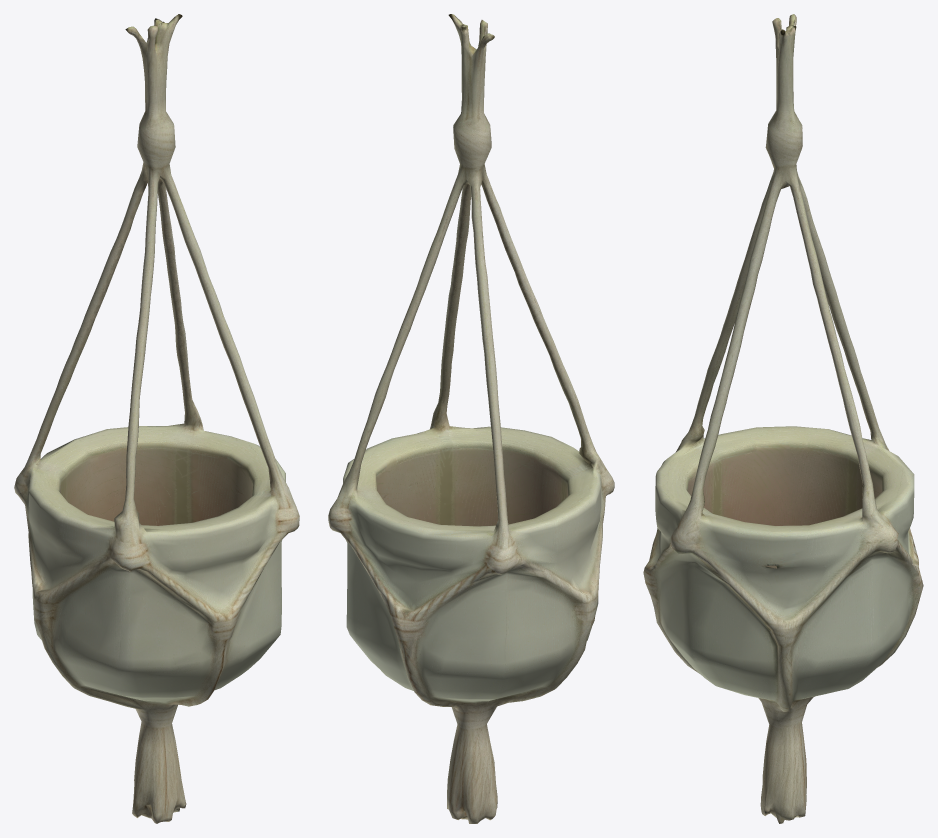
Rendered from pot_macrame.glb.
3 views of the same model, side by side, from view 1: azimuth 30°, elevation 25°; view 2: azimuth 150°, elevation 25°; view 3: azimuth 270°, elevation 25° (orthographic).
Bounding box in the file's own units: 0.6383 × 2 × 0.6368.
1 material, 1 textured.
